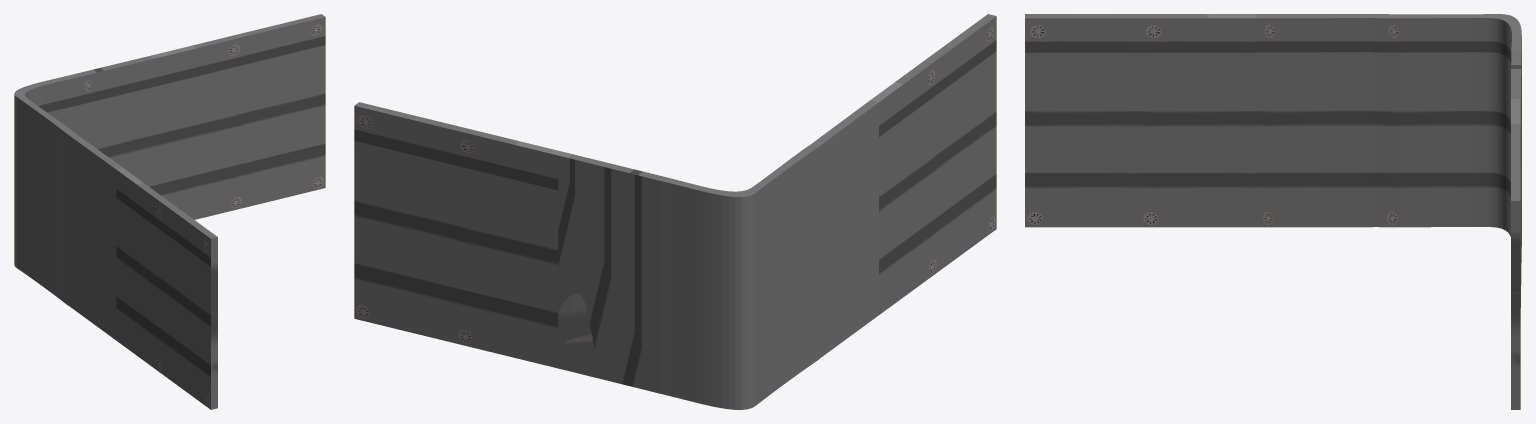
The model's file is wall_curb.fbx.
3 renders of one model, left to right at view 1: azimuth 30°, elevation 25°; view 2: azimuth 150°, elevation 25°; view 3: azimuth 270°, elevation 25°, orthographic. The views are drawn at different scales.
Visible parts, largest first — view 1: Wall Curb; view 2: Wall Curb; view 3: Wall Curb.
Boxes of the visible parts, x1=… form: Wall Curb: x1=14, y1=14, x2=325, y2=409; Wall Curb: x1=354, y1=14, x2=996, y2=409; Wall Curb: x1=1025, y1=14, x2=1521, y2=409.
Size of the model in its own units: 1117 by 582 by 1254.
Materials: 1 (1 with a texture image).
